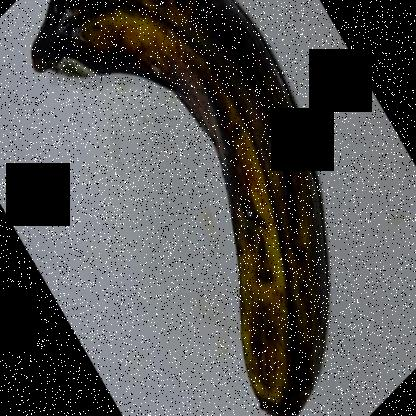rotten: (27, 0, 338, 412)
